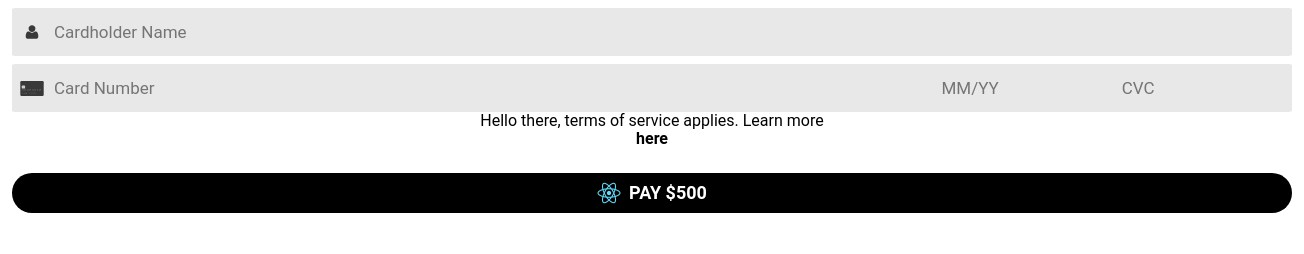
Test: <CheckoutContainer /> › renders some errors due expired card
Type "1220" into the field named "card-expiry".
click(1032, 88); type("1220")  # box top-left (932, 66), bottom-right (1132, 110)
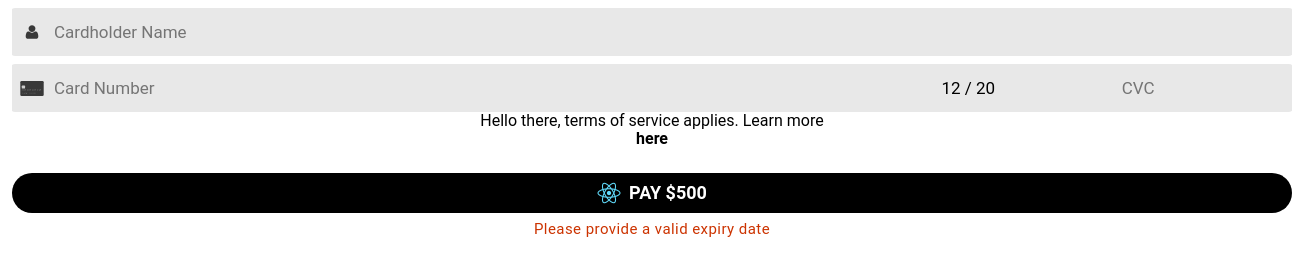
Result: the text with id "helper-container" reads "Please provide a valid expiry date" at top-left (534, 220), bottom-right (770, 238)
